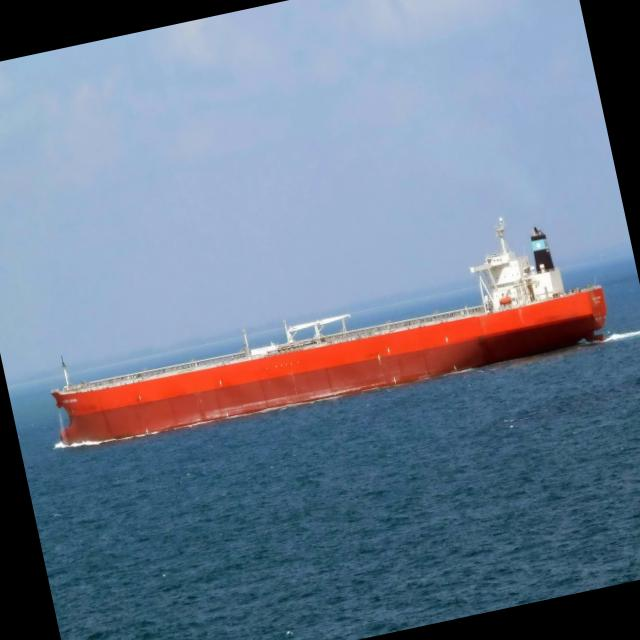Tanker: (51, 219, 606, 444)
